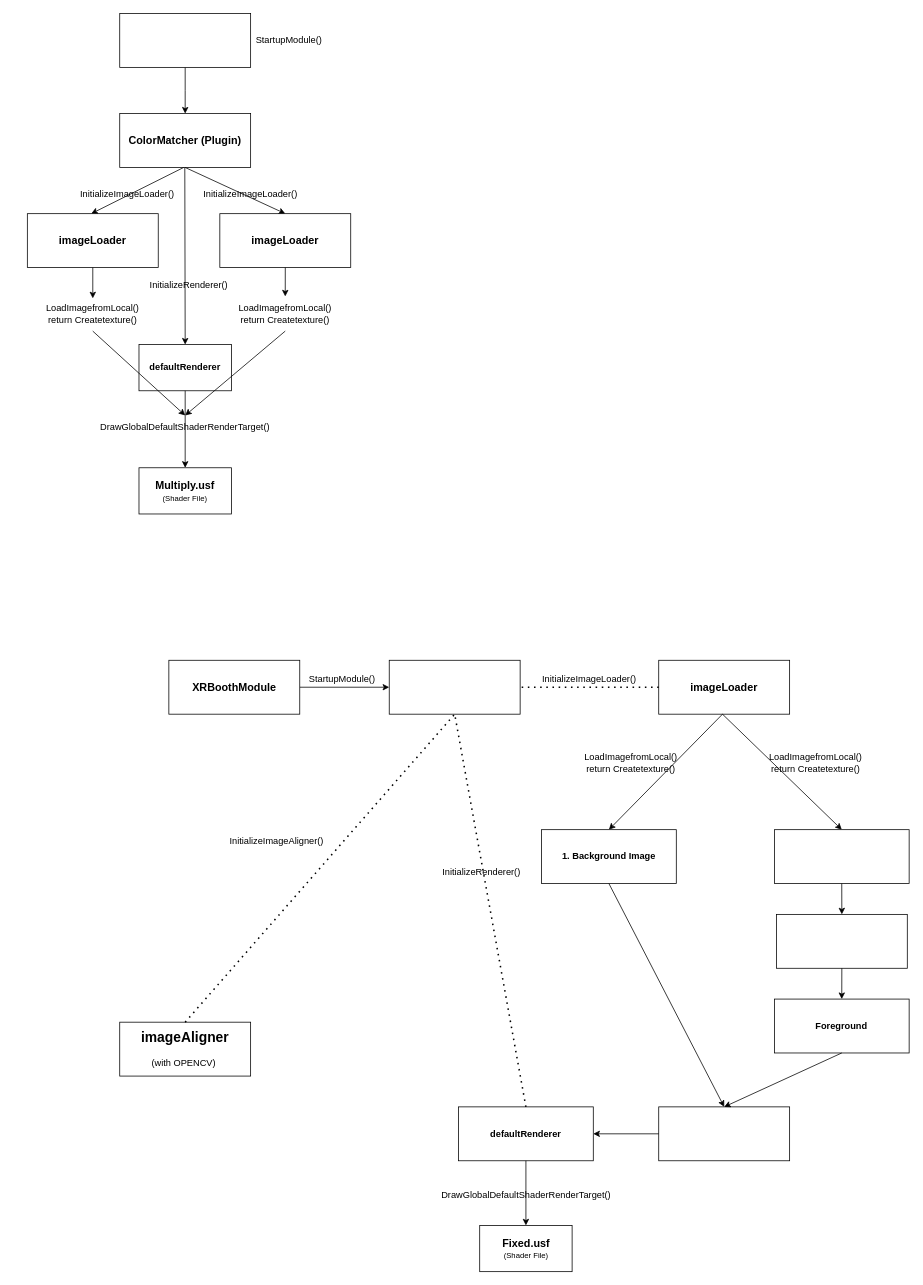
Image size: 923x1285. Some labels were removed from this diagram. The shapes that lost their labels are listed below. From the top down, each one's box as (x1, y1, x2, y2) in pixels, then its label:
(119, 13, 251, 67): ColorMatcherModule
(388, 660, 520, 714): XRBooth (Plugin)
(774, 829, 909, 884): 2. Photo
(776, 914, 907, 968): Foreground Segmentation
(658, 1106, 790, 1161): Blender
